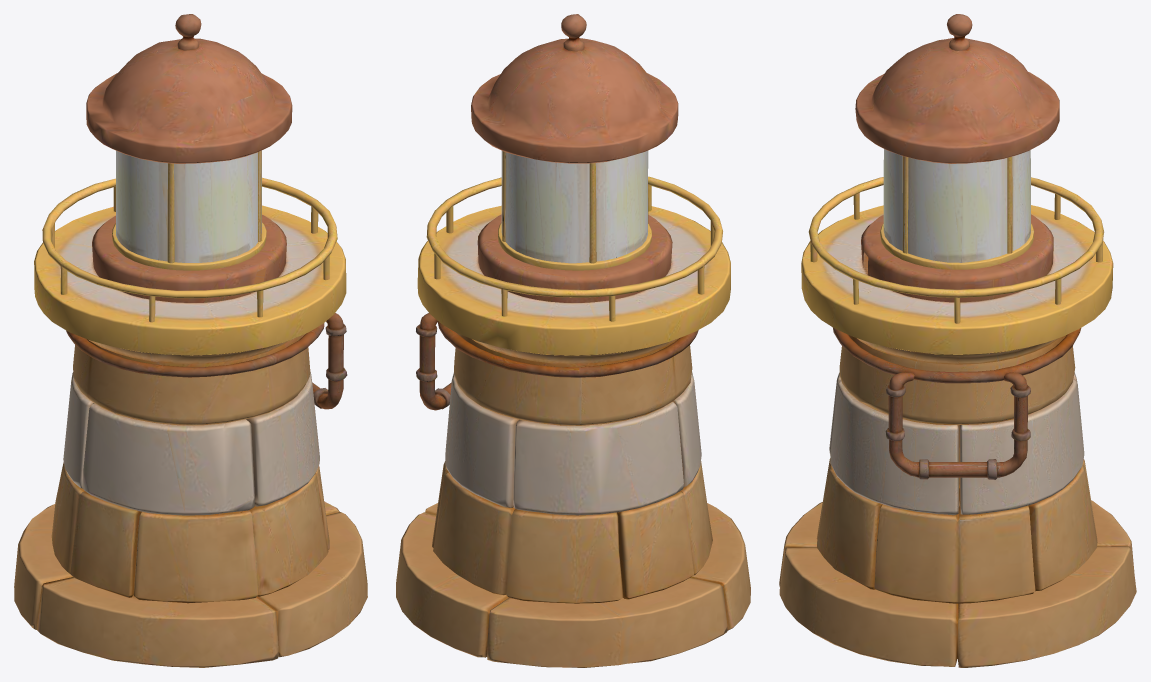
Rendered from sea-lock-light.glb.
The picture shows the model from 3 angles, left to right: view 1: azimuth 30°, elevation 25°; view 2: azimuth 150°, elevation 25°; view 3: azimuth 270°, elevation 25°; orthographic projection.
Visible parts, largest first — view 1: sea-lock-light; view 2: sea-lock-light; view 3: sea-lock-light.
Part boxes in pixels (x1=…): sea-lock-light: x1=14, y1=14, x2=367, y2=667; sea-lock-light: x1=396, y1=14, x2=750, y2=667; sea-lock-light: x1=779, y1=14, x2=1136, y2=667.
Bounding box in the file's own units: 2.82 × 5 × 2.81.
Materials: 1 (1 with a texture image).
